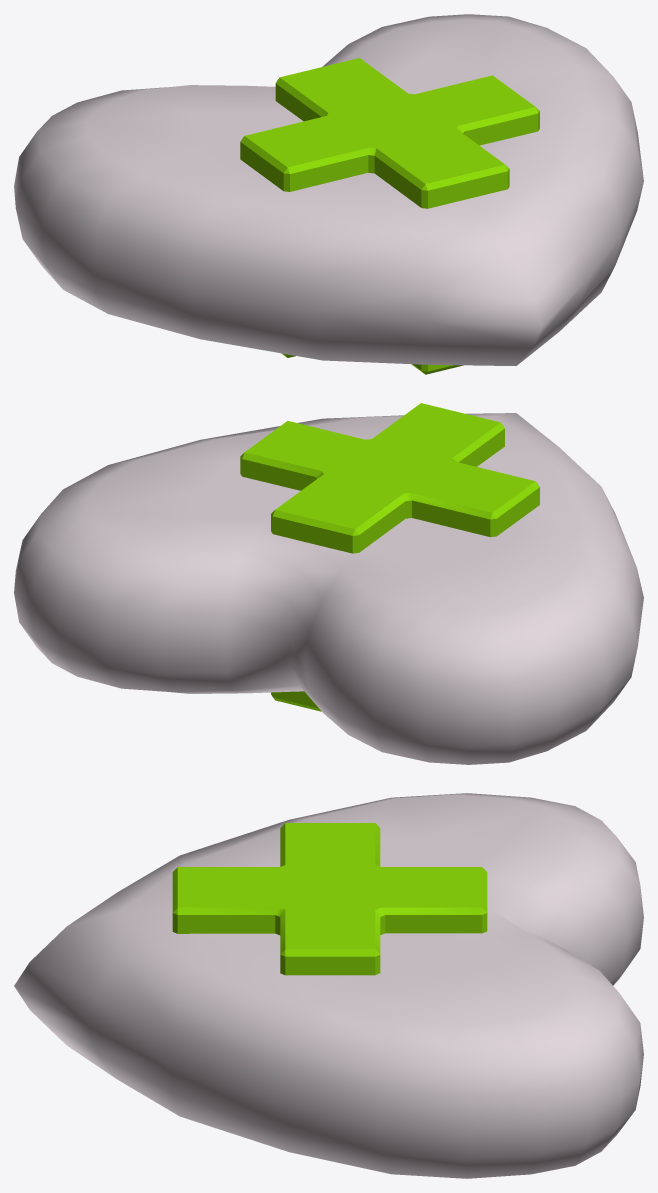
The model's file is Healing.fbx.
The picture shows the model from 3 angles, top to bottom: view 1: azimuth 30°, elevation 25°; view 2: azimuth 150°, elevation 25°; view 3: azimuth 270°, elevation 25°; orthographic projection. The views are drawn at different scales.
Visible parts, largest first — view 1: Heart, Box004; view 2: Heart, Box004; view 3: Heart, Box004.
Part boxes in pixels (left/top/right/bottom): Heart: left=14, top=14, right=643, bottom=365; Box004: left=240, top=58, right=539, bottom=374; Heart: left=14, top=413, right=643, bottom=764; Box004: left=240, top=403, right=539, bottom=711; Heart: left=14, top=793, right=643, bottom=1178; Box004: left=172, top=823, right=487, bottom=975.
Size of the model in its own units: 8546 by 2750 by 7882.
